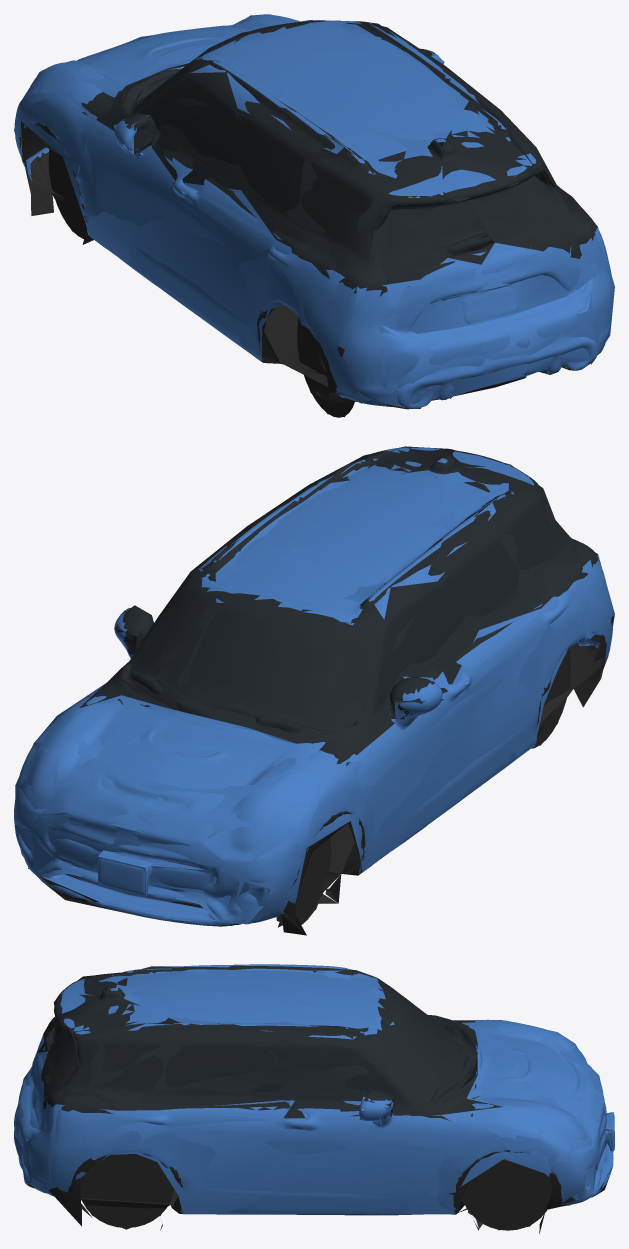
Rendered from mini-clubman.glb.
The picture shows the model from 3 angles, top to bottom: view 1: azimuth 30°, elevation 25°; view 2: azimuth 150°, elevation 25°; view 3: azimuth 270°, elevation 25°; orthographic projection. The views are drawn at different scales.
Parts seen in each view (by area): view 1: body, far; view 2: body, far; view 3: body, far.
Boxes of the visible parts, box(x1,y1,x2,y2) form: body: box(14, 14, 612, 417); far: box(14, 14, 614, 417); body: box(14, 447, 612, 934); far: box(15, 446, 614, 935); body: box(14, 964, 614, 1233); far: box(15, 966, 614, 1231).
Bounding box in the file's own units: 2.07 × 1.59 × 4.29.
